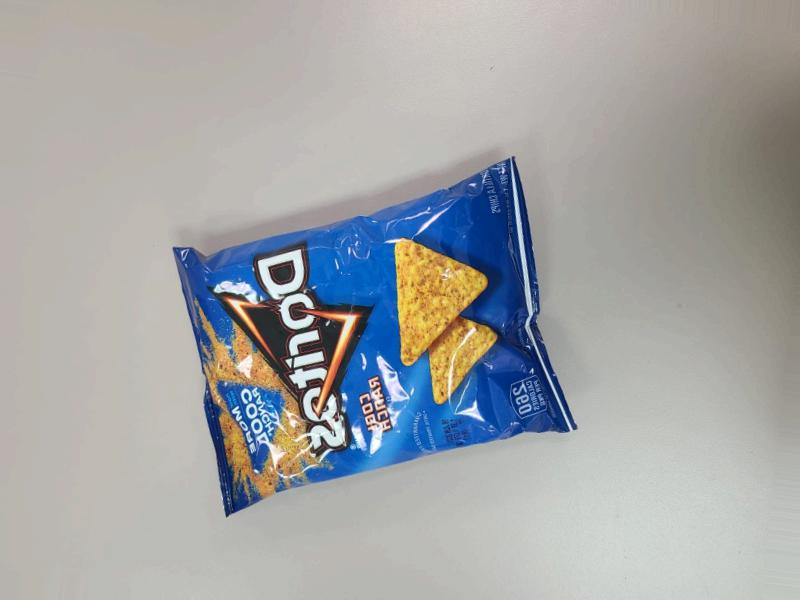doritos: (174, 150, 582, 535)
